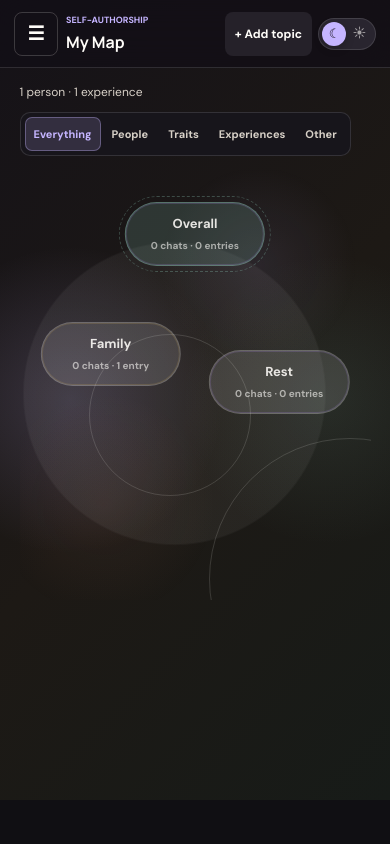
Test case: real My Map route/graph/forms › mobile layout uses original growing two-column positions and selection closes drawer
Click the button named "Open conversations" at (36, 34), box x1=14 y1=12 x2=58 y2=56
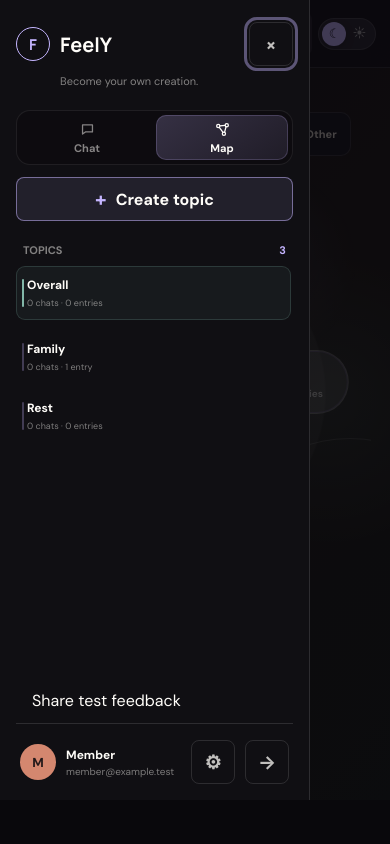
Click the button "Family 0 chats · 1 entry" at (46, 349), box x1=16 y1=330 x2=291 y2=384
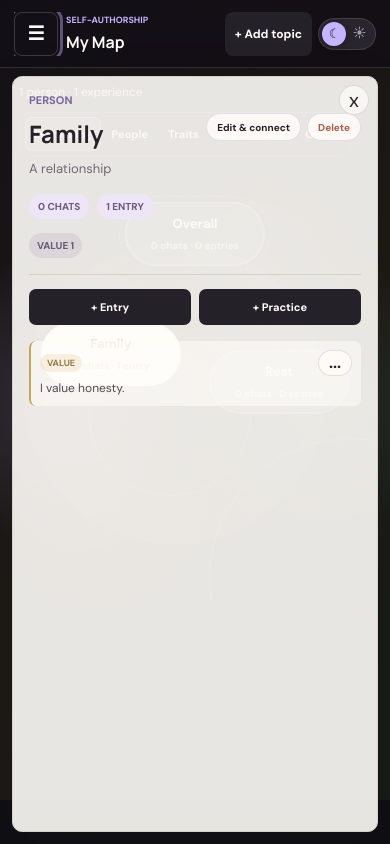
Expected: the element named "Family details" is shown
Expected: the button named "Open conversations" is collapsed, x1=14 y1=12 x2=58 y2=56
